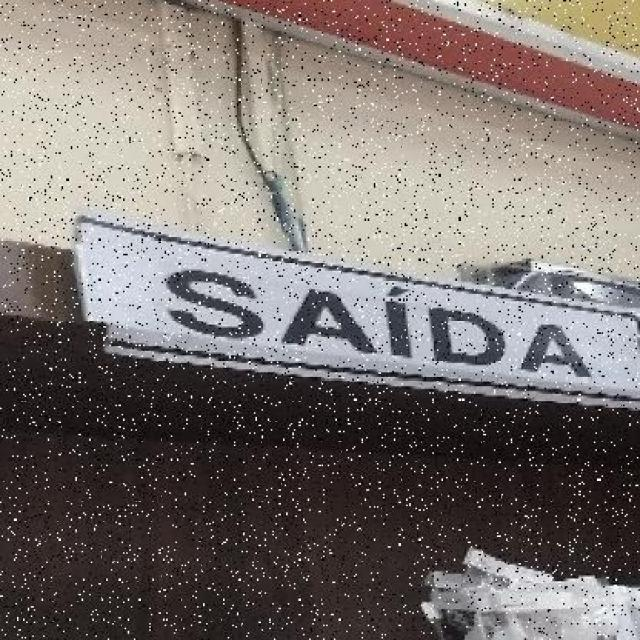emergency_exit: (72, 213, 640, 409)
